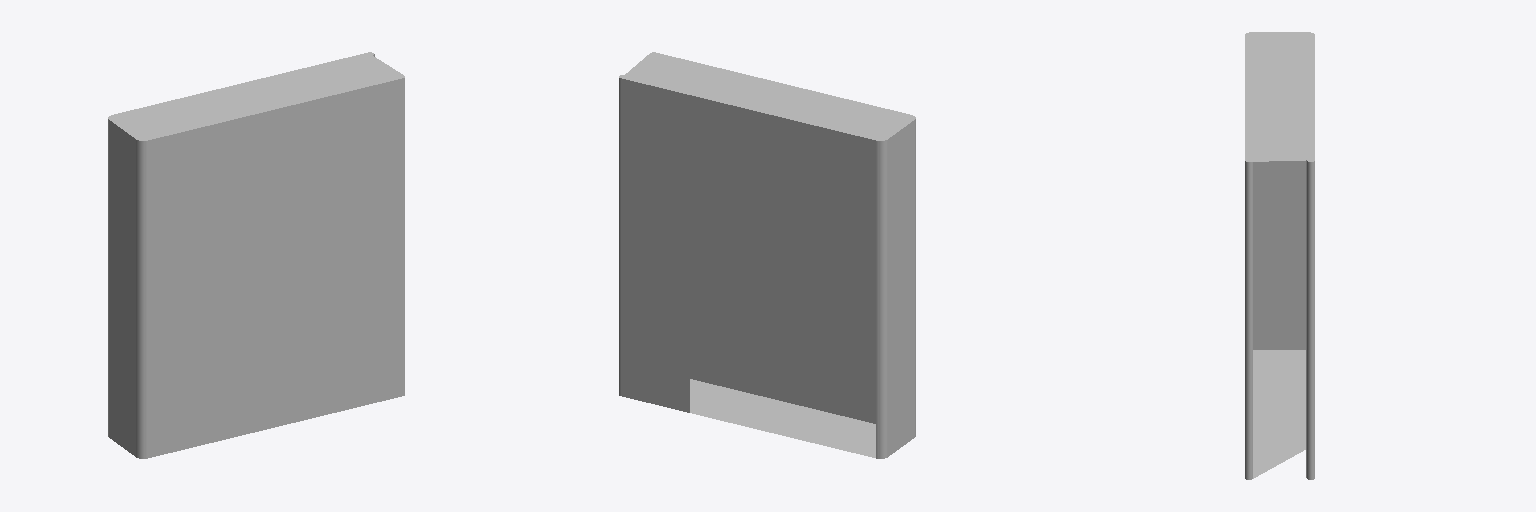
The model's file is books__11.obj.
3 renders of one model, left to right at view 1: azimuth 30°, elevation 25°; view 2: azimuth 150°, elevation 25°; view 3: azimuth 270°, elevation 25°, orthographic.
Visible parts, largest first — view 1: grp11; view 2: grp11; view 3: grp11.
Part boxes in pixels (bbox=[...]): grp11: bbox=[108, 52, 404, 458]; grp11: bbox=[619, 52, 915, 458]; grp11: bbox=[1245, 32, 1314, 479].
Size of the model in its own units: 161 by 184 by 36.8.